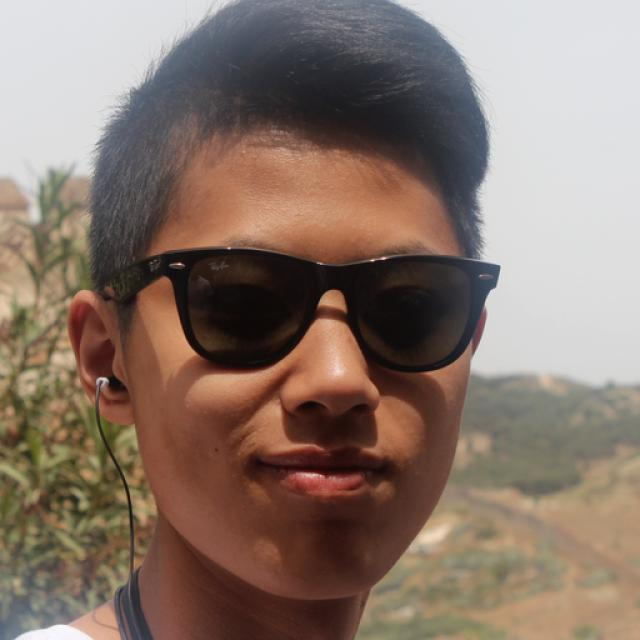content: (130, 125, 475, 589)
